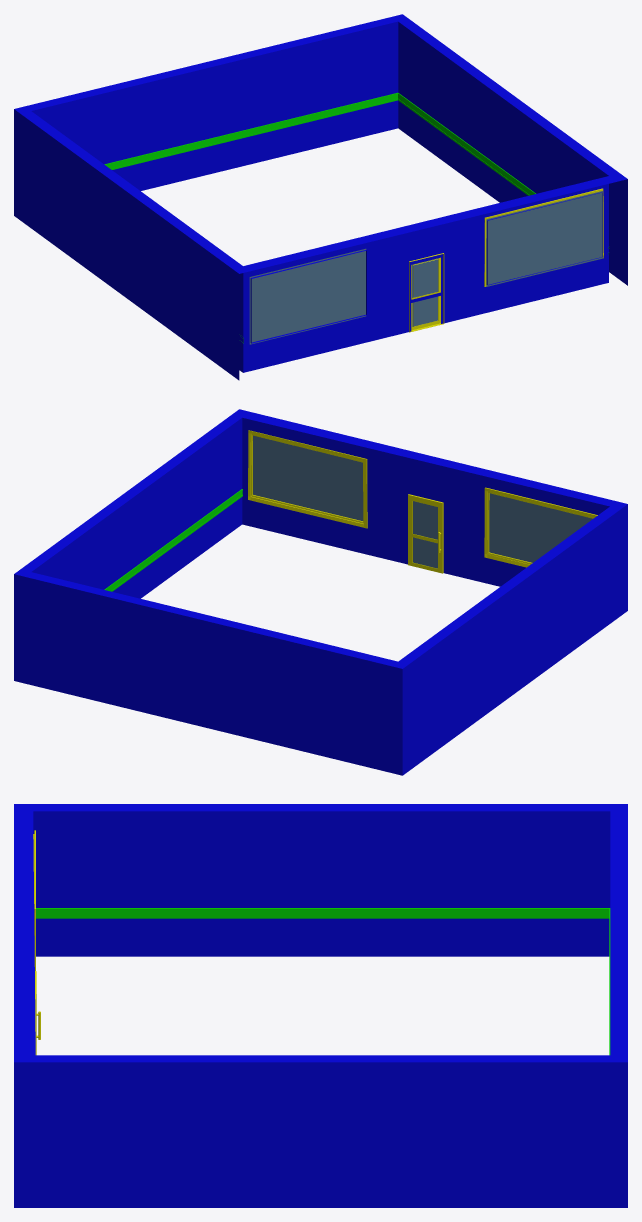
File: pared,puerta y ventana .fbx
3 views of the same model, one above another, from view 1: azimuth 30°, elevation 25°; view 2: azimuth 150°, elevation 25°; view 3: azimuth 270°, elevation 25° (orthographic). The views are drawn at different scales.
Parts seen in each view (by area): view 1: paredes, pCube11, pCube12, pCube7, pCube5, pCube6, pCube9, puerta3, pCube10, marco_ventana_izquierda; view 2: paredes, pCube11, pCube12, marco_ventana_izquierda, puerta3, marco_ventana_izquierda3, pCube9, marco_ventana_izquierda1, pCube10, pCube7, marco_ventana_izquierda4; view 3: paredes, pCube7, pCube5, pCube6.
Boxes of the visible parts, bbox=[...] form: paredes: bbox=[14, 14, 627, 380]; pCube11: bbox=[486, 191, 602, 286]; pCube12: bbox=[249, 248, 366, 344]; pCube7: bbox=[107, 95, 533, 343]; pCube5: bbox=[104, 92, 608, 248]; pCube6: bbox=[111, 99, 608, 341]; pCube9: bbox=[412, 258, 438, 297]; puerta3: bbox=[409, 253, 444, 332]; pCube10: bbox=[412, 296, 437, 326]; marco_ventana_izquierda: bbox=[484, 188, 603, 286]; paredes: bbox=[14, 409, 627, 775]; pCube11: bbox=[253, 435, 363, 520]; pCube12: bbox=[489, 493, 592, 562]; marco_ventana_izquierda: bbox=[248, 430, 367, 528]; puerta3: bbox=[408, 494, 443, 573]; marco_ventana_izquierda3: bbox=[484, 487, 597, 567]; pCube9: bbox=[413, 501, 437, 539]; marco_ventana_izquierda1: bbox=[251, 433, 363, 523]; pCube10: bbox=[413, 537, 437, 568]; pCube7: bbox=[106, 491, 242, 591]; marco_ventana_izquierda4: bbox=[487, 491, 594, 564]; paredes: bbox=[14, 804, 627, 1207]; pCube7: bbox=[36, 910, 609, 916]; pCube5: bbox=[36, 908, 610, 1055]; pCube6: bbox=[36, 916, 609, 918].
Size of the model in its own units: 199 by 52.31 by 200.
